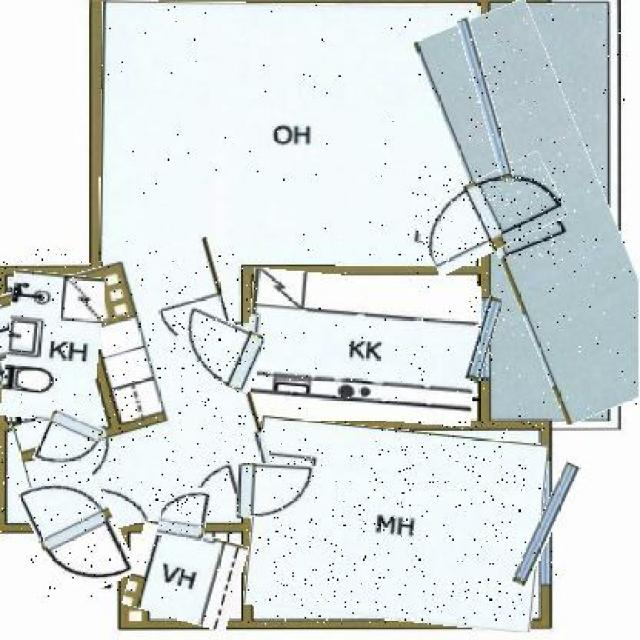door: (414, 165, 564, 263), (29, 468, 128, 597), (172, 312, 268, 388), (237, 465, 318, 517), (37, 412, 100, 476), (158, 485, 210, 540)
window: (468, 17, 504, 181), (526, 460, 568, 588), (471, 297, 497, 383)
zone: (100, 2, 480, 264), (451, 2, 640, 420), (0, 249, 258, 533), (248, 423, 544, 626), (246, 273, 480, 422), (5, 273, 101, 422), (128, 524, 243, 624)
